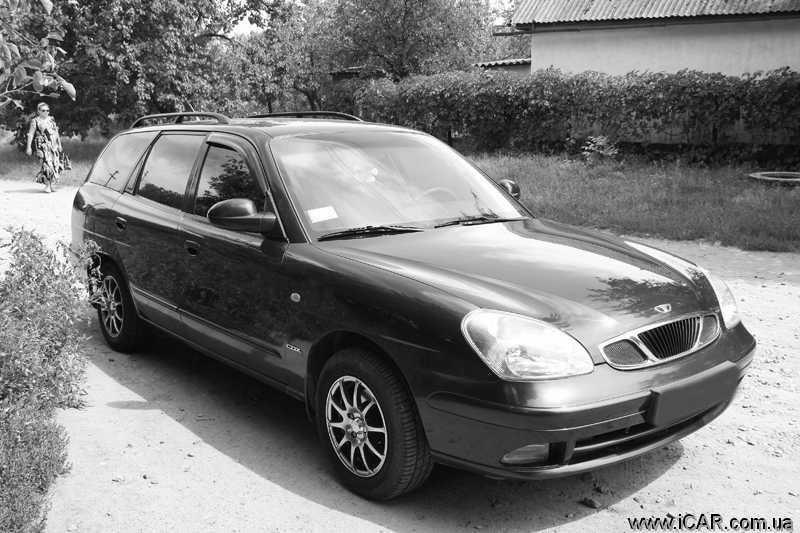car: (70, 110, 759, 506)
